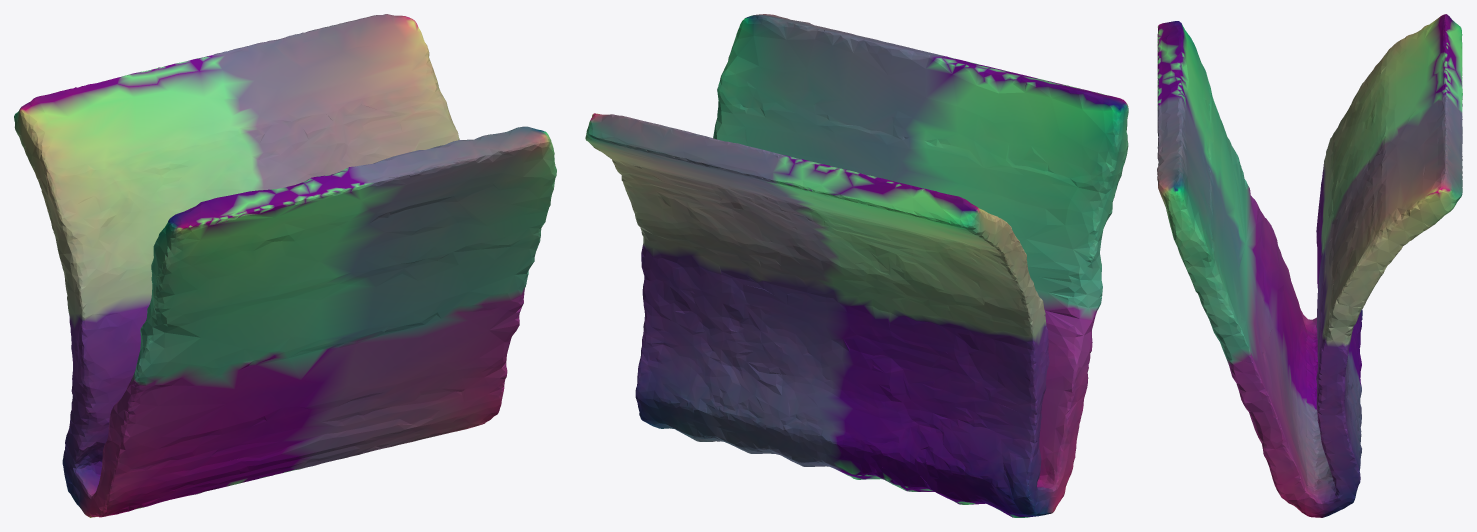
Rendered from paper-8.off.obj.
3 views of the same model, side by side, from view 1: azimuth 30°, elevation 25°; view 2: azimuth 150°, elevation 25°; view 3: azimuth 270°, elevation 25° (orthographic). The views are drawn at different scales.
Size of the model in its own units: 1.23 by 1.09 by 0.8932.
